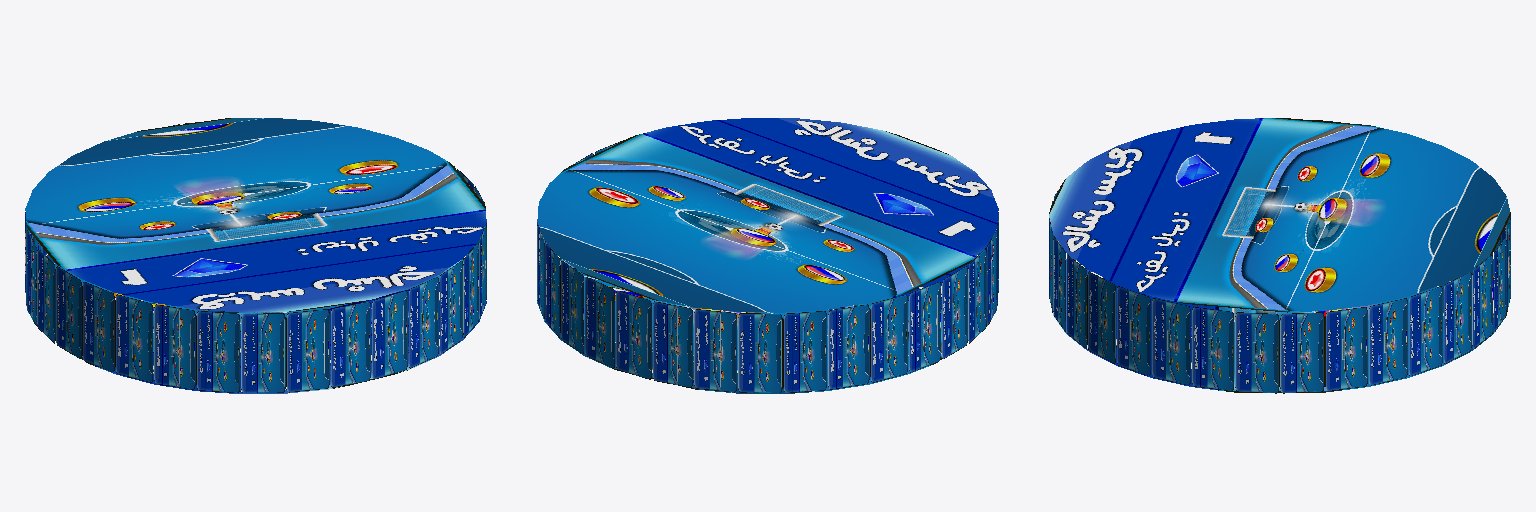
The picture shows the model from 3 angles: view 1: azimuth 30°, elevation 25°; view 2: azimuth 150°, elevation 25°; view 3: azimuth 270°, elevation 25°; orthographic projection.
Parts seen in each view (by area): view 1: marble_Cylinder; view 2: marble_Cylinder; view 3: marble_Cylinder.
Part boxes in pixels (left/top/right/bottom): marble_Cylinder: left=25, top=118, right=486, bottom=393; marble_Cylinder: left=537, top=118, right=998, bottom=393; marble_Cylinder: left=1049, top=118, right=1510, bottom=393.
Size of the model in its own units: 2 by 0.39 by 2.
1 materials, 1 textured.